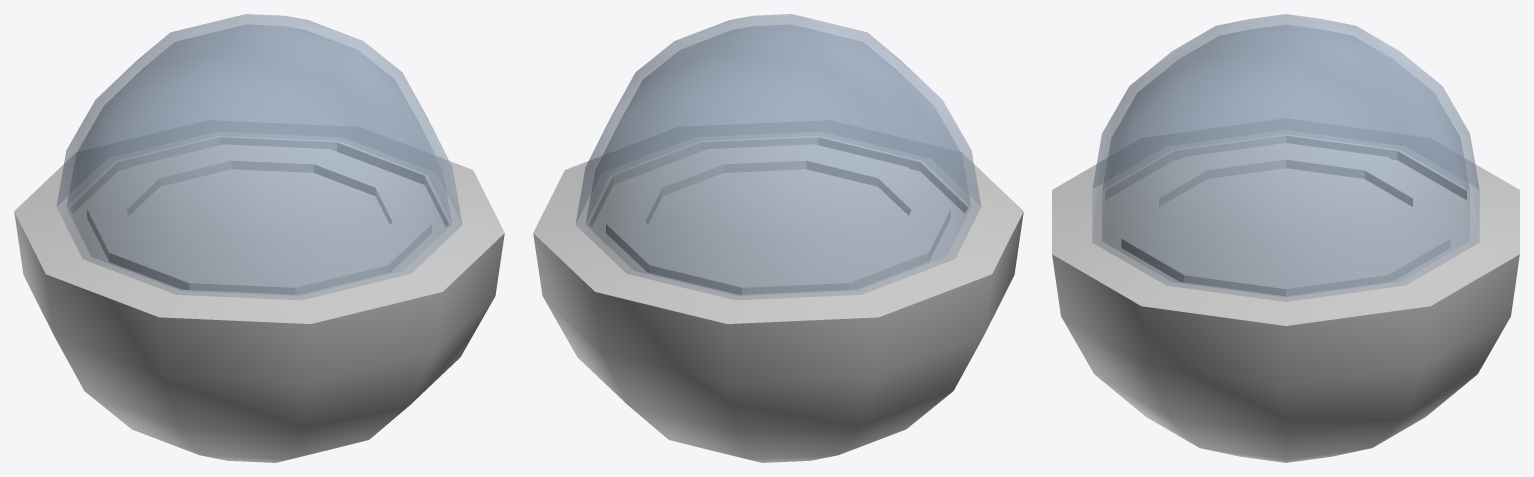
Rendered from Prop_MiniLight.fbx.
The picture shows the model from 3 angles, left to right: view 1: azimuth 30°, elevation 25°; view 2: azimuth 150°, elevation 25°; view 3: azimuth 270°, elevation 25°; orthographic projection.
Visible parts, largest first — view 1: Prop_MiniLight_Lamp1, Prop_MiniLight_Body; view 2: Prop_MiniLight_Lamp1, Prop_MiniLight_Body; view 3: Prop_MiniLight_Lamp1, Prop_MiniLight_Body.
Boxes of the visible parts, left/top/right/bottom form: Prop_MiniLight_Lamp1: left=14, top=121, right=504, bottom=462; Prop_MiniLight_Body: left=56, top=14, right=462, bottom=299; Prop_MiniLight_Lamp1: left=533, top=121, right=1023, bottom=462; Prop_MiniLight_Body: left=575, top=14, right=981, bottom=299; Prop_MiniLight_Lamp1: left=1052, top=119, right=1519, bottom=462; Prop_MiniLight_Body: left=1092, top=14, right=1479, bottom=301.
Size of the model in its own units: 48.07 by 44.19 by 45.72.
